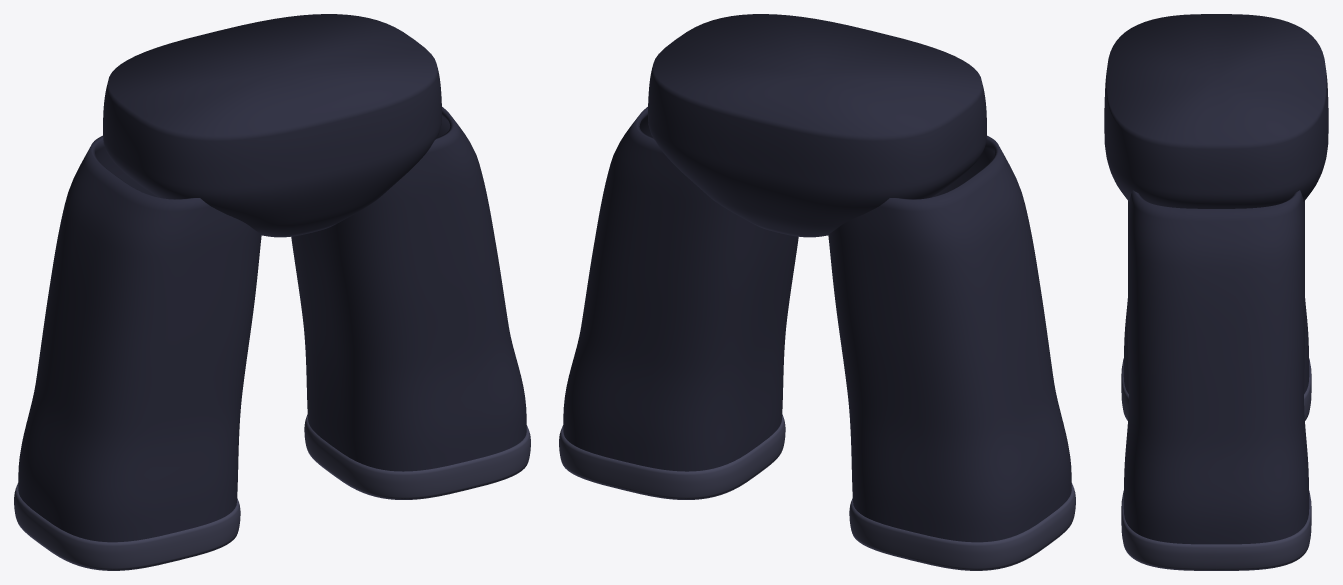
File: homie_trousers.glb
3 views of the same model, side by side, from view 1: azimuth 30°, elevation 25°; view 2: azimuth 150°, elevation 25°; view 3: azimuth 270°, elevation 25° (orthographic). The views are drawn at different scales.
Parts seen in each view (by area): view 1: homie_trousers__leg_r, homie_trousers__hips, homie_trousers__leg_l, homie_trousers__hem_r, homie_trousers__hem_l; view 2: homie_trousers__leg_r, homie_trousers__hips, homie_trousers__leg_l, homie_trousers__hem_r, homie_trousers__hem_l; view 3: homie_trousers__leg_l, homie_trousers__hips, homie_trousers__hem_l, homie_trousers__leg_r, homie_trousers__hem_r.
Boxes of the visible parts, x1,y1,x2,y2 form: homie_trousers__leg_r: (18, 135, 261, 542); homie_trousers__hips: (103, 14, 441, 237); homie_trousers__leg_l: (291, 107, 526, 471); homie_trousers__hem_r: (14, 483, 240, 570); homie_trousers__hem_l: (304, 414, 530, 499); homie_trousers__leg_r: (828, 135, 1071, 542); homie_trousers__hips: (648, 14, 986, 237); homie_trousers__leg_l: (563, 107, 798, 471); homie_trousers__hem_r: (849, 483, 1075, 570); homie_trousers__hem_l: (559, 414, 785, 499); homie_trousers__leg_l: (1123, 190, 1309, 544); homie_trousers__hips: (1104, 14, 1328, 208); homie_trousers__hem_l: (1121, 490, 1311, 570); homie_trousers__leg_r: (1123, 201, 1309, 393); homie_trousers__hem_r: (1121, 358, 1311, 420).
Bounding box in the file's own units: 1.52 × 1.29 × 0.676.
